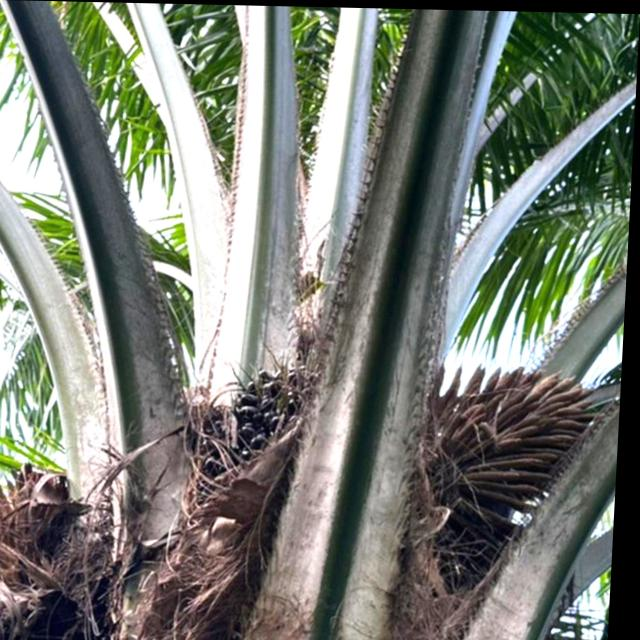almost: (176, 351, 323, 548)
